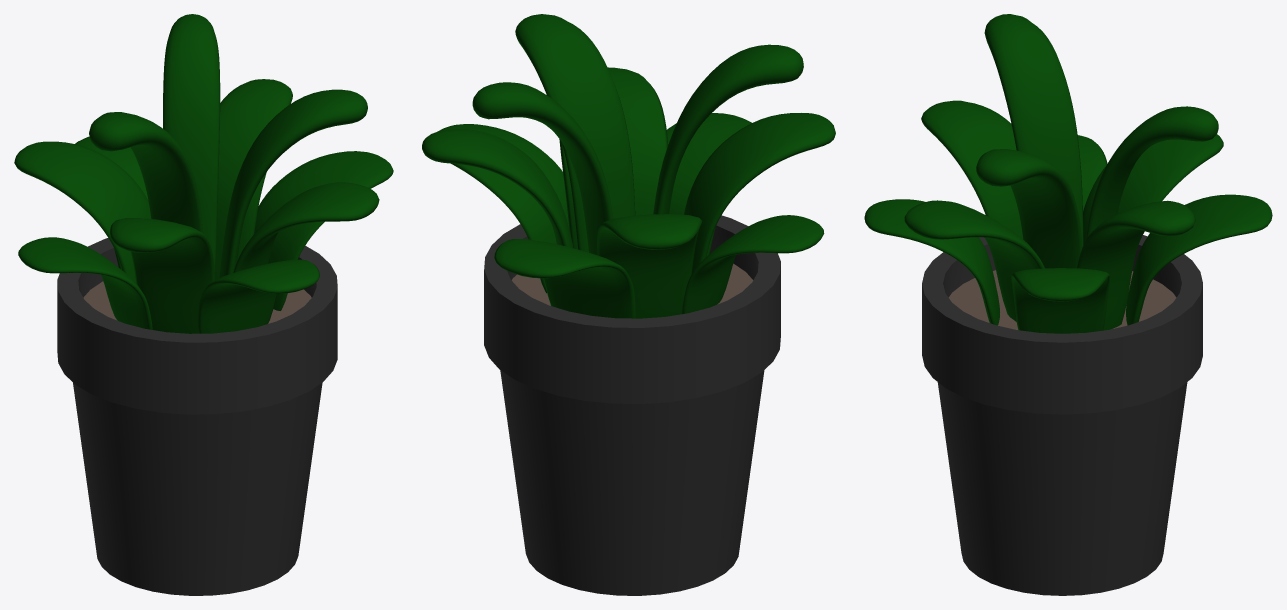
File: Plante2_3.fbx
The picture shows the model from 3 angles, left to right: view 1: azimuth 30°, elevation 25°; view 2: azimuth 150°, elevation 25°; view 3: azimuth 270°, elevation 25°; orthographic projection. The views are drawn at different scales.
Visible parts, largest first — view 1: pCylinder730, pCube1938, pCube1935, pCube1929, pCube1937, pCube1939, pCube1931, pCube1934, pCube1933, pCube1930, pCube1936, pCylinder731 (+1 smaller); view 2: pCylinder730, pCube1937, pCube1935, pCube1929, pCube1932, pCube1939, pCube1938, pCube1930, pCube1931, pCube1936, pCube1933, pCube1934 (+1 smaller); view 3: pCylinder730, pCube1939, pCube1937, pCube1933, pCube1935, pCube1932, pCube1931, pCube1930, pCube1938, pCube1929, pCube1934, pCylinder731 (+1 smaller).
Part boxes in pixels (x1,y1,x2,y2): pCylinder730: [57, 238, 337, 595]; pCube1938: [163, 14, 220, 278]; pCube1935: [110, 218, 214, 333]; pCube1929: [14, 141, 151, 282]; pCube1937: [219, 89, 367, 277]; pCube1939: [89, 112, 203, 233]; pCube1931: [215, 79, 292, 280]; pCube1934: [198, 259, 319, 333]; pCube1933: [254, 151, 393, 310]; pCube1930: [233, 182, 379, 272]; pCube1936: [18, 237, 152, 329]; pCylinder731: [83, 281, 311, 323]; pCylinder730: [484, 215, 780, 595]; pCube1937: [515, 14, 635, 252]; pCube1935: [684, 113, 835, 274]; pCube1929: [597, 214, 702, 318]; pCube1932: [494, 239, 635, 318]; pCube1939: [653, 44, 803, 214]; pCube1938: [472, 82, 613, 254]; pCube1930: [559, 67, 668, 249]; pCube1931: [422, 129, 573, 247]; pCube1936: [681, 215, 824, 314]; pCube1933: [438, 124, 569, 293]; pCube1934: [666, 113, 751, 256]; pCylinder730: [922, 235, 1202, 595]; pCube1939: [984, 14, 1083, 246]; pCube1937: [976, 149, 1082, 268]; pCube1933: [1011, 268, 1110, 333]; pCube1935: [921, 100, 1022, 238]; pCube1932: [1126, 194, 1272, 325]; pCube1931: [1077, 200, 1195, 330]; pCube1930: [904, 200, 1044, 321]; pCube1938: [1085, 106, 1218, 240]; pCube1929: [1083, 134, 1223, 244]; pCube1934: [864, 199, 999, 325]; pCylinder731: [948, 270, 1176, 329].
Bounding box in the file's own units: 16.65 × 21.16 × 16.27.
